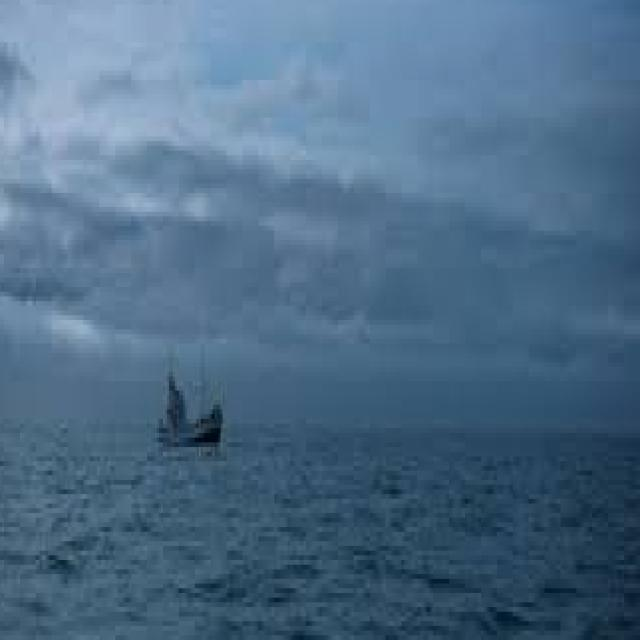fishing boat: (154, 351, 229, 443)
